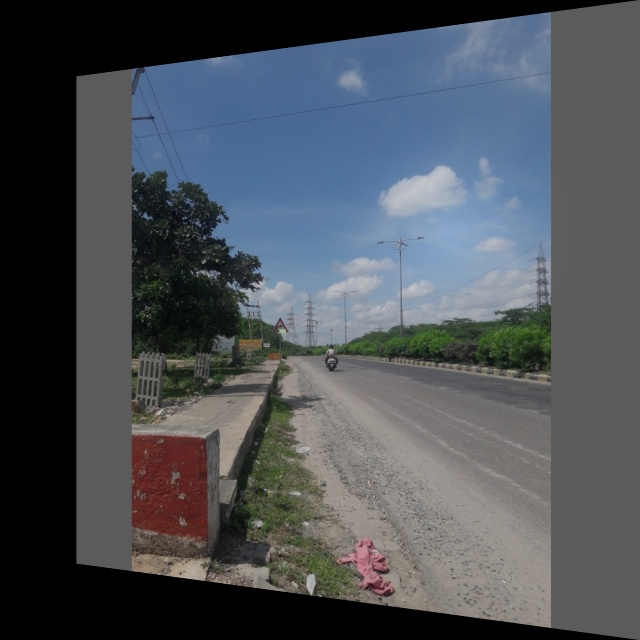Right_Hand_Curve: (272, 318, 286, 332)
